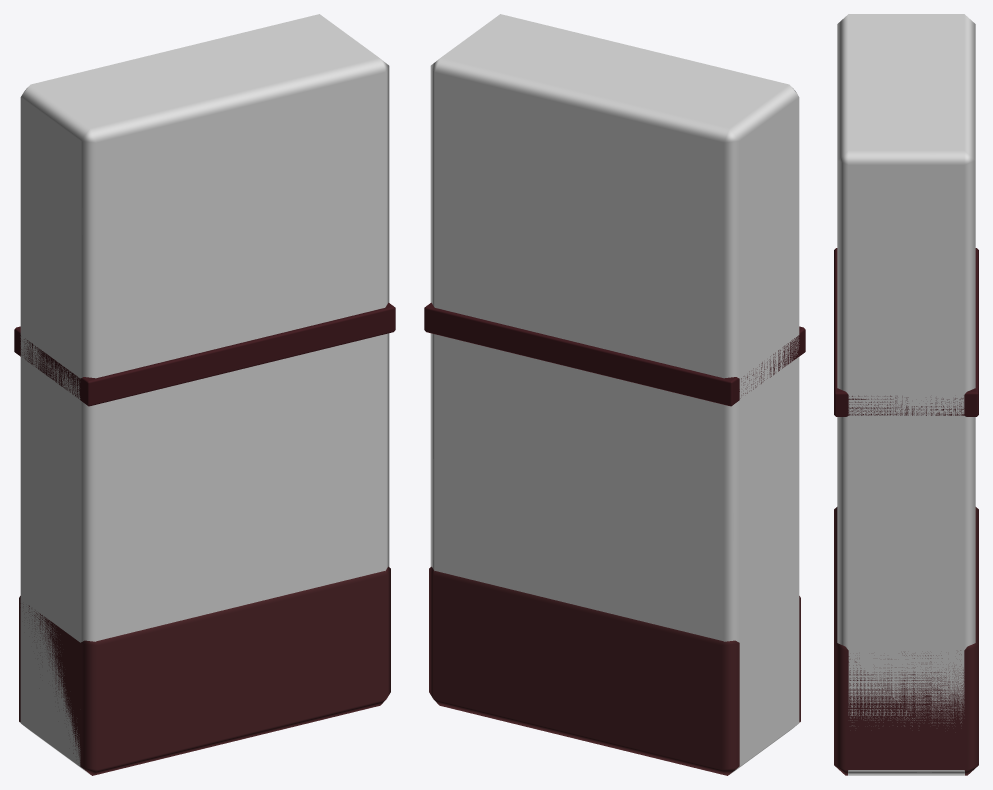
File: living-cave-wall-outer.9275e23a.glb
3 renders of one model, left to right at view 1: azimuth 30°, elevation 25°; view 2: azimuth 150°, elevation 25°; view 3: azimuth 270°, elevation 25°, orthographic. The views are drawn at different scales.
Visible parts, largest first — view 1: body; view 2: body; view 3: body.
Boxes of the visible parts, bbox=[...] form: body: bbox=[14, 14, 395, 775]; body: bbox=[424, 14, 805, 775]; body: bbox=[834, 14, 978, 775].
Bounding box in the file's own units: 1 × 2 × 0.42.
